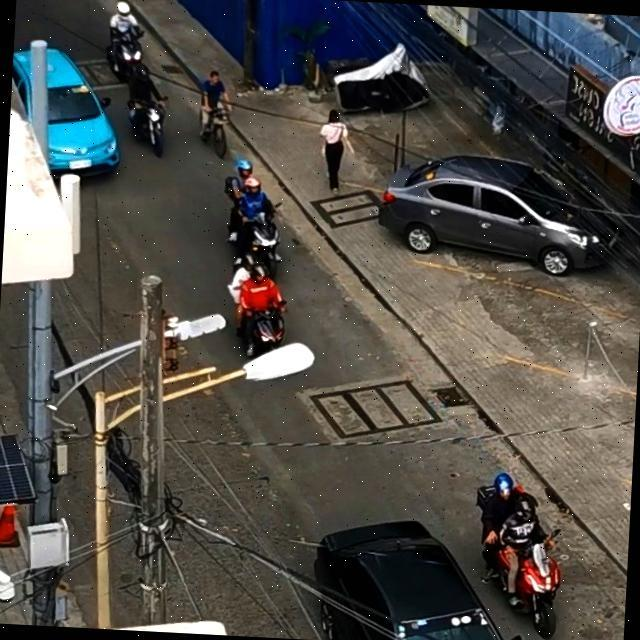Bike: (176, 64, 252, 166)
